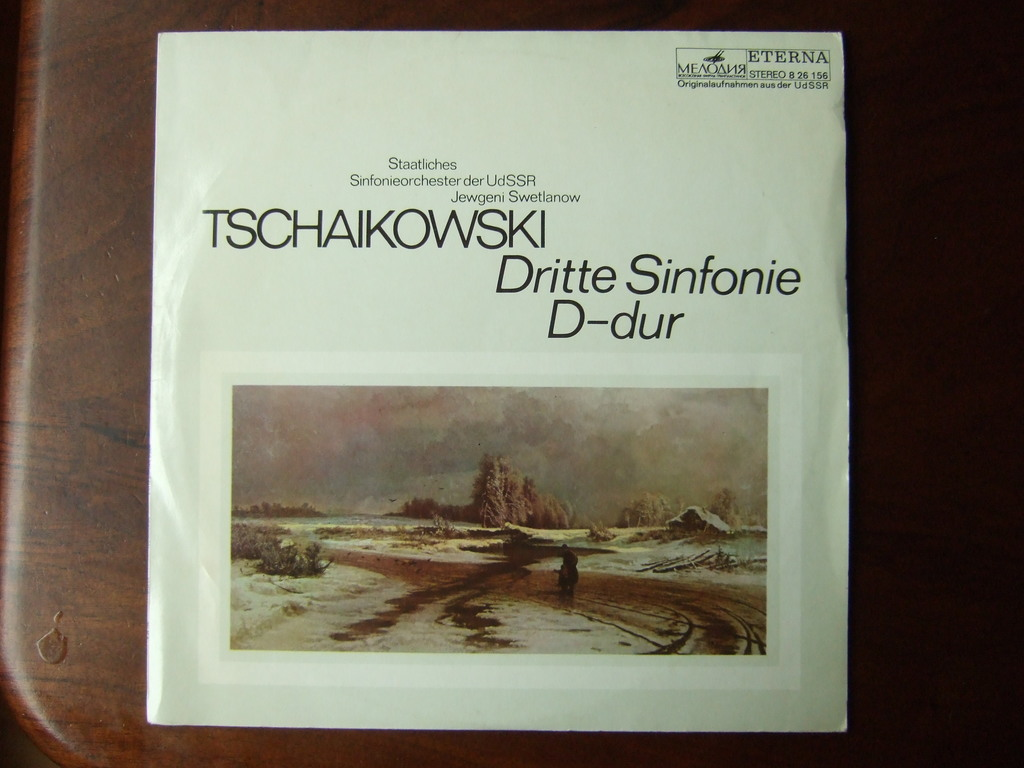Book: (145, 29, 847, 735)
